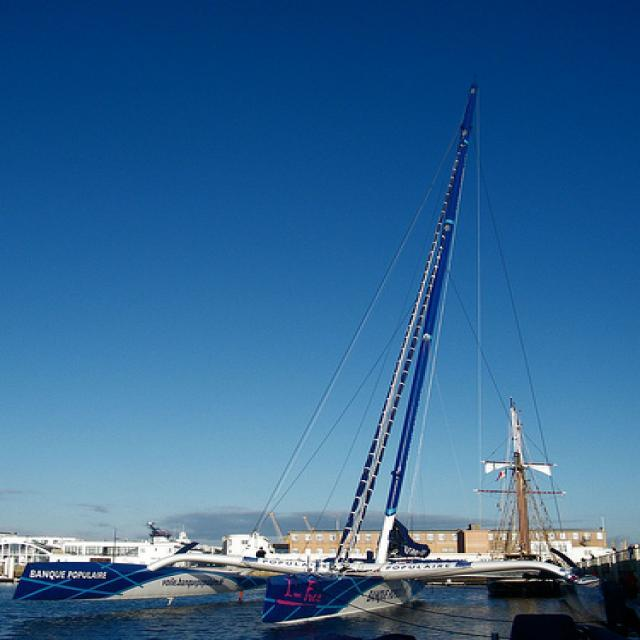Ship: (1, 63, 612, 627)
